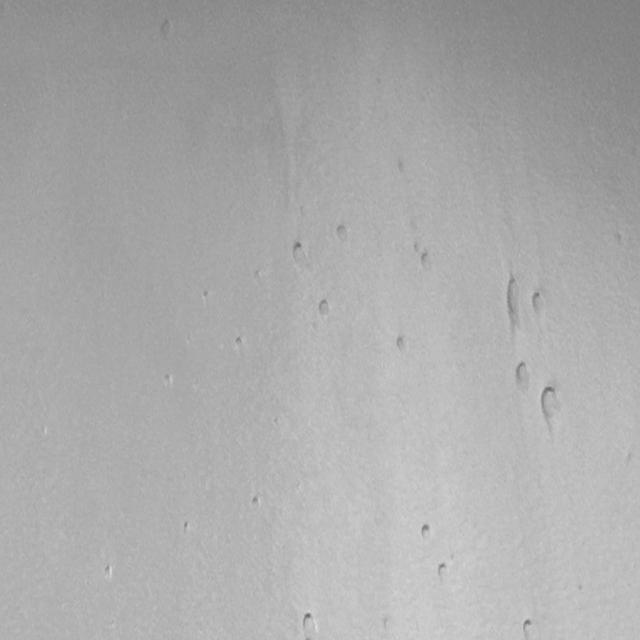pin holes: (536, 382, 567, 444), (502, 283, 522, 322), (513, 360, 535, 394), (299, 610, 322, 640), (532, 288, 550, 320), (288, 239, 308, 265), (433, 562, 453, 587), (156, 17, 176, 42), (392, 332, 411, 357), (518, 618, 538, 640), (333, 221, 352, 244), (316, 297, 332, 322), (416, 522, 435, 542), (417, 251, 433, 274), (232, 332, 248, 354), (100, 564, 116, 584), (251, 494, 266, 512), (252, 266, 267, 284), (162, 372, 176, 390), (200, 289, 213, 308), (182, 518, 195, 536)
